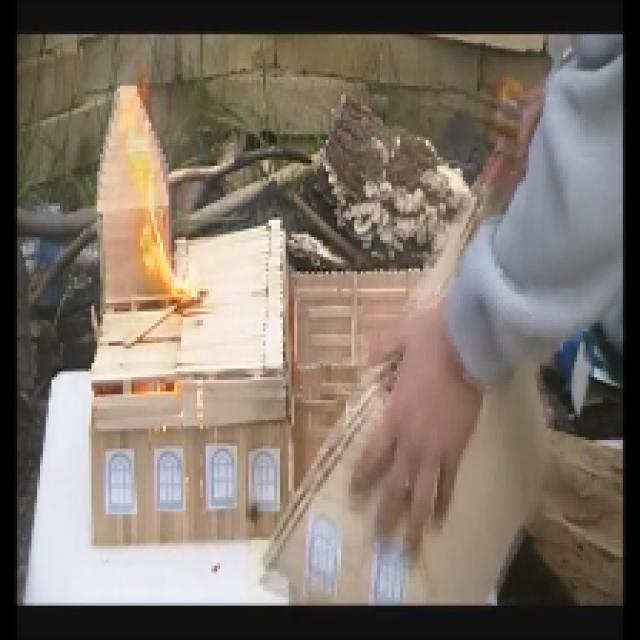Fire: (128, 161, 186, 309)
